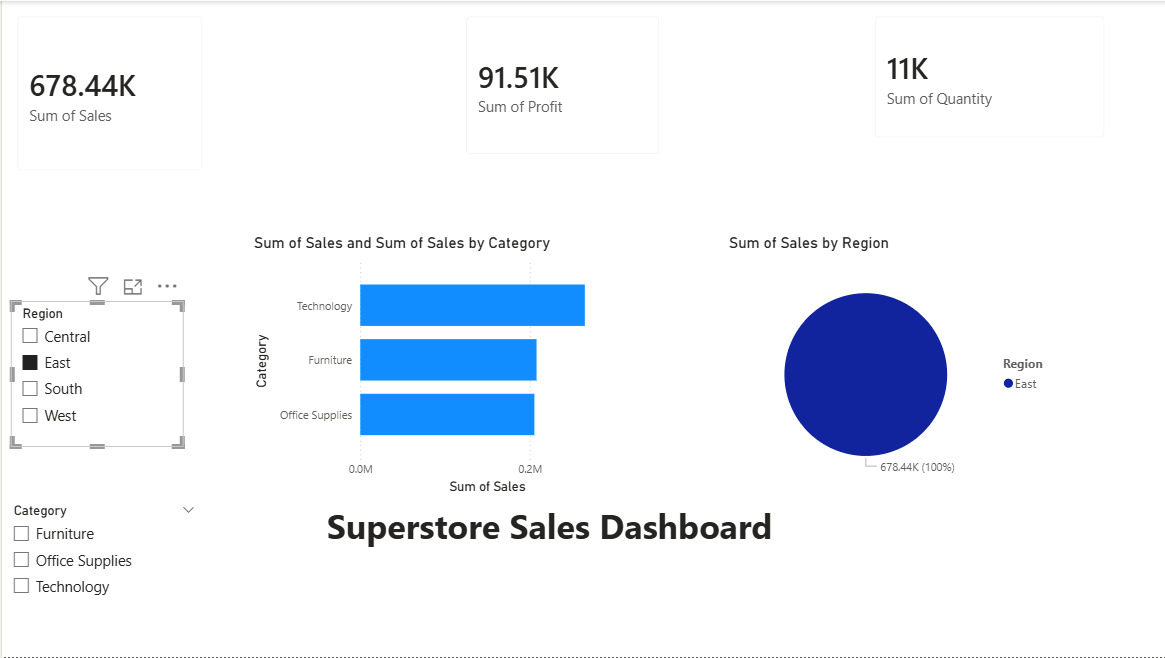

What the dashboard file says about the page in this screenshot:
{"tool":"powerbi","page":{"name":"Page 1","canvas":[1280,720],"ordinal":0},"visuals":[{"type":"cardVisual","fields":{"Data":["Sum(SampleSuperstore.Sales)"]},"box":[0,0,237.4,203.1],"z":0},{"type":"cardVisual","fields":{"Data":["Sum(SampleSuperstore.Profit)"]},"box":[492.6,0,247,185.2],"z":1000},{"type":"cardVisual","fields":{"Data":["Sum(SampleSuperstore.Quantity)"]},"box":[941.3,0,286.8,167.4],"z":2000},{"type":"barChart","fields":{"Y":["Sum(SampleSuperstore.Sales)","Sum(SampleSuperstore.Sales)"],"Category":["SampleSuperstore.Category"]},"box":[271.7,255.2,419.9,290.9],"z":3000},{"type":"pieChart","fields":{"Category":["SampleSuperstore.Region"],"Y":["Sum(SampleSuperstore.Sales)"]},"box":[793.1,255.2,374.6,290.9],"z":3001},{"type":"slicer","fields":{"Values":["SampleSuperstore.Region"]},"box":[9.6,329.3,189.4,160.5],"z":3002},{"type":"slicer","fields":{"Values":["SampleSuperstore.Category"]},"box":[0,546.1,223.7,174.3],"z":3003},{"type":"textbox","box":[271.7,546.1,658.7,60.4],"z":3004}]}

Visuals, with their boxes in screenshot pixels (x1, y1, x2, y2), scaled from the page's 1280x720 canvas onto the 1165x658 screenshot:
cardVisual - Sum(SampleSuperstore.Sales): detection(0, 0, 216, 186)
cardVisual - Sum(SampleSuperstore.Profit): detection(448, 0, 673, 169)
cardVisual - Sum(SampleSuperstore.Quantity): detection(857, 0, 1118, 153)
barChart - Sum(SampleSuperstore.Sales) x Sum(SampleSuperstore.Sales): detection(247, 233, 629, 499)
pieChart - SampleSuperstore.Region x Sum(SampleSuperstore.Sales): detection(722, 233, 1063, 499)
slicer - SampleSuperstore.Region: detection(9, 301, 181, 448)
slicer - SampleSuperstore.Category: detection(0, 499, 204, 657)
textbox: detection(247, 499, 847, 554)
